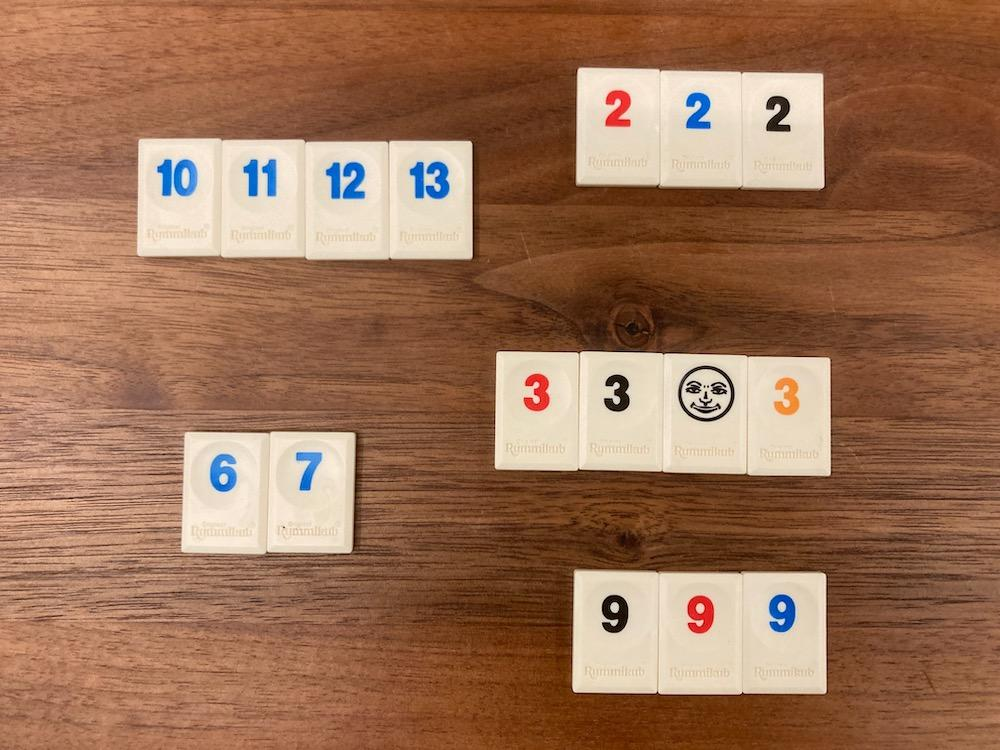black_2: (742, 72, 822, 189)
black_3: (578, 352, 664, 471)
black_9: (572, 573, 658, 693)
blue_10: (137, 140, 221, 256)
blue_11: (221, 142, 305, 258)
blue_12: (305, 143, 389, 260)
blue_13: (389, 141, 471, 260)
blue_2: (660, 70, 742, 188)
blue_6: (182, 432, 270, 555)
blue_7: (268, 435, 355, 553)
blue_9: (742, 572, 826, 693)
joker: (662, 354, 748, 473)
orange_3: (748, 357, 830, 477)
red_2: (576, 69, 660, 186)
red_3: (496, 354, 578, 471)
red_9: (658, 573, 742, 695)
